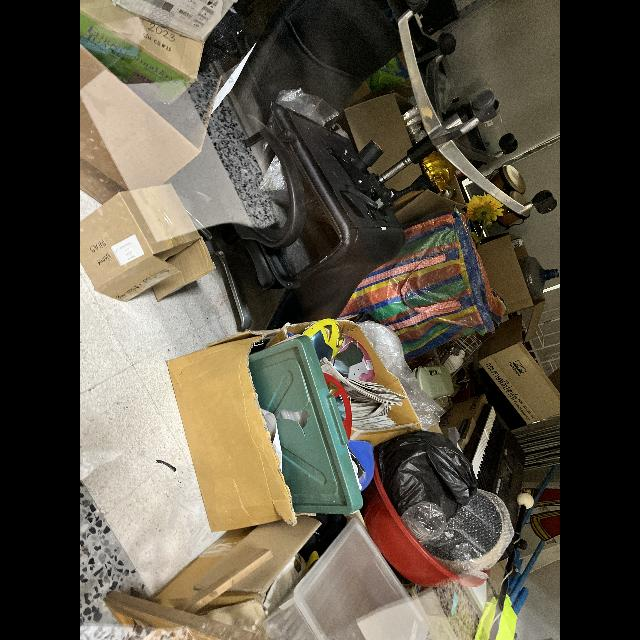cardboard_box: (80, 0, 236, 202), (166, 312, 302, 538), (80, 180, 220, 308)
